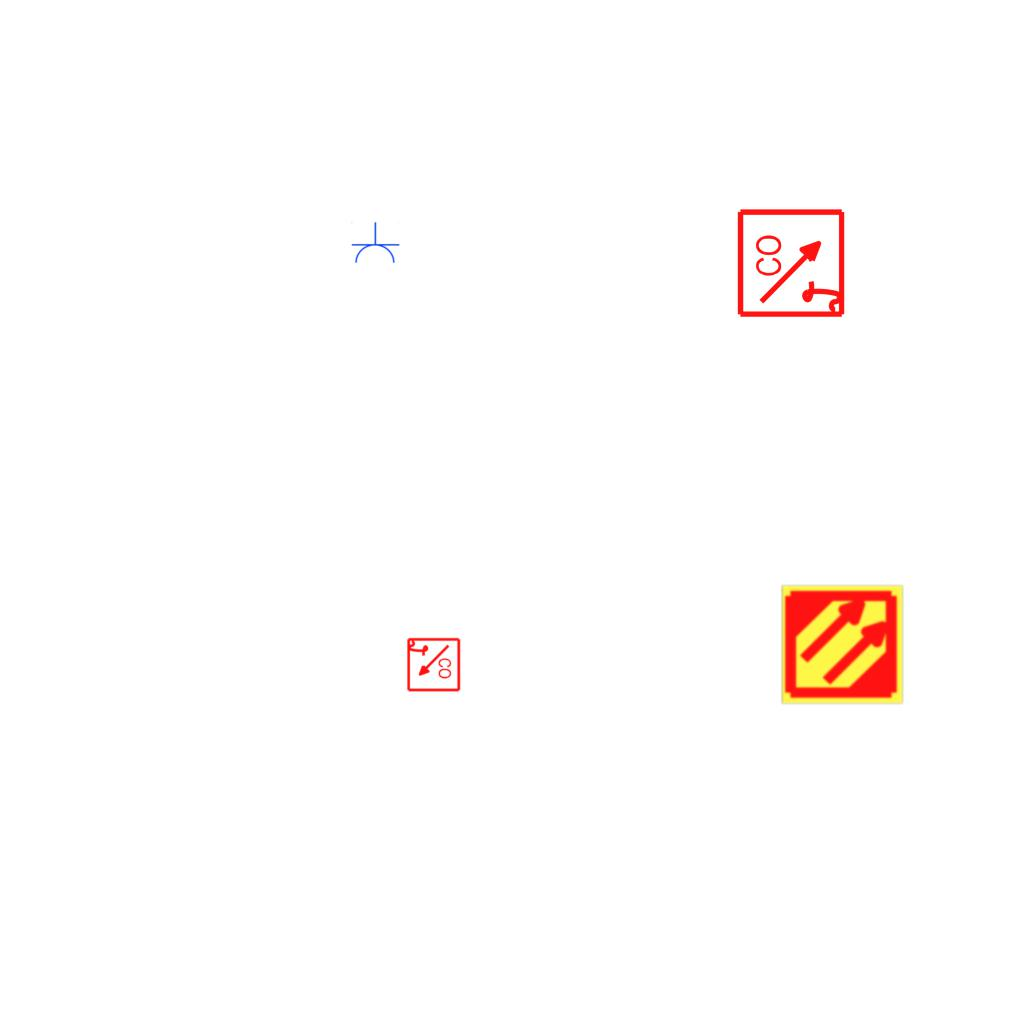ASR_Ansaugrauchmelder: (780, 582, 905, 707)
ROA_Rauchmelder_optisch_mit_Signalgeber_(Sockelsirene): (736, 206, 849, 319), (405, 637, 461, 693)
Schukosteckdose_einfach: (350, 222, 400, 265)
